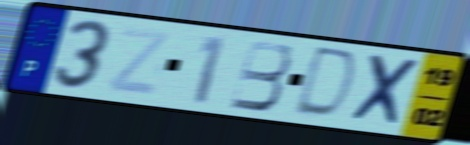1: (195, 35, 229, 106)
3: (51, 18, 115, 92)
B: (227, 38, 294, 113)
D: (289, 44, 361, 123)
X: (346, 52, 423, 130)
Z: (103, 24, 175, 99)
